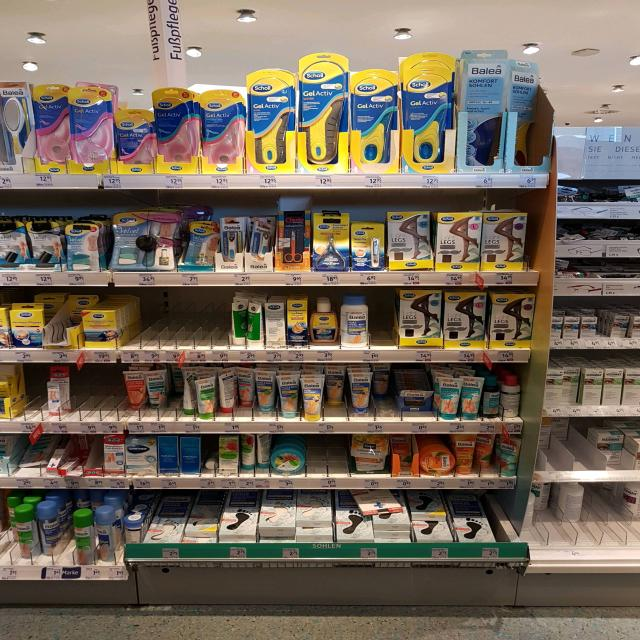unorganised: (6, 492, 124, 565), (531, 483, 640, 545), (182, 368, 300, 417), (540, 418, 640, 471), (509, 59, 547, 168), (11, 434, 104, 473), (385, 210, 434, 274), (351, 434, 420, 475), (122, 368, 168, 412), (440, 376, 485, 420), (558, 179, 640, 202), (478, 435, 521, 473), (231, 299, 265, 347), (346, 489, 404, 515), (238, 434, 272, 474), (375, 364, 401, 416), (309, 299, 337, 346), (45, 303, 77, 342), (325, 364, 346, 417), (248, 216, 274, 255), (403, 387, 437, 416), (500, 374, 522, 418), (596, 308, 629, 337), (561, 363, 583, 404), (201, 435, 218, 474)
